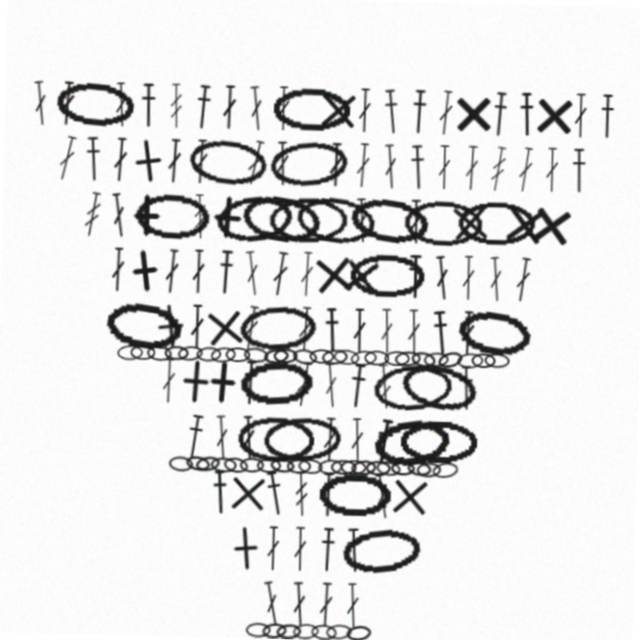chain: (399, 356, 483, 414), (373, 412, 455, 468), (237, 192, 320, 247), (345, 192, 428, 247), (345, 523, 428, 577), (103, 302, 184, 357), (455, 302, 535, 357), (264, 138, 347, 191), (211, 193, 292, 247), (292, 193, 374, 246), (183, 139, 266, 191), (373, 359, 455, 411), (238, 304, 319, 355), (265, 415, 346, 465), (49, 85, 130, 135), (240, 360, 317, 409), (266, 197, 345, 243), (401, 197, 480, 243), (132, 196, 209, 243), (267, 87, 345, 133), (455, 197, 534, 242), (240, 417, 317, 463), (402, 417, 480, 462), (348, 252, 425, 297), (322, 472, 397, 517), (437, 346, 465, 367), (188, 457, 215, 476), (198, 457, 225, 476), (435, 458, 463, 476), (226, 458, 253, 476), (351, 348, 378, 366), (411, 348, 438, 366), (379, 458, 405, 476), (211, 348, 237, 366), (264, 348, 290, 366), (293, 348, 319, 366), (300, 623, 327, 640), (333, 623, 360, 640), (322, 348, 349, 365), (334, 348, 361, 365), (395, 348, 422, 365), (269, 623, 295, 640), (353, 623, 379, 640), (273, 458, 299, 475), (301, 458, 327, 475), (321, 458, 347, 475), (354, 458, 380, 475), (410, 458, 436, 475), (178, 348, 204, 365), (244, 348, 270, 365), (318, 624, 345, 640), (283, 624, 309, 640), (214, 459, 240, 475), (118, 349, 144, 365), (147, 349, 173, 365), (424, 349, 450, 365), (458, 349, 484, 365), (172, 459, 197, 475), (420, 459, 445, 475), (197, 349, 222, 365), (334, 459, 360, 474), (344, 459, 370, 474), (385, 349, 411, 364), (485, 349, 511, 364), (253, 624, 278, 639), (243, 459, 268, 474), (260, 459, 285, 474), (290, 459, 315, 474), (369, 459, 394, 474), (394, 459, 419, 474), (131, 349, 156, 364), (165, 349, 190, 364), (226, 349, 251, 364), (274, 349, 299, 364), (310, 349, 335, 364), (365, 349, 390, 364), (472, 349, 497, 364)
double: (51, 141, 75, 188), (267, 581, 290, 628), (240, 141, 263, 188), (376, 472, 397, 518), (295, 362, 316, 408), (241, 307, 262, 353), (241, 252, 262, 298), (106, 197, 127, 243), (269, 252, 289, 298), (431, 252, 451, 298), (512, 252, 532, 298), (512, 142, 532, 188), (323, 362, 342, 408), (26, 87, 45, 133), (242, 87, 261, 133), (216, 417, 234, 463), (162, 252, 180, 298), (486, 252, 504, 298), (378, 142, 396, 188), (432, 87, 450, 133), (297, 582, 315, 627), (351, 582, 368, 627), (243, 417, 260, 462), (297, 307, 314, 352), (351, 197, 368, 242), (108, 142, 125, 187), (162, 142, 179, 187), (189, 142, 206, 187), (351, 142, 368, 187), (54, 87, 71, 132), (108, 87, 125, 132), (325, 582, 341, 627), (325, 417, 341, 462), (352, 417, 368, 462), (379, 307, 395, 352), (406, 307, 422, 352), (460, 307, 476, 352), (109, 252, 125, 297), (298, 252, 314, 297), (271, 142, 287, 187), (460, 142, 476, 187), (271, 527, 286, 572), (298, 527, 313, 572), (163, 362, 178, 407), (190, 307, 205, 352), (352, 307, 367, 352), (190, 252, 205, 297), (460, 252, 475, 297), (406, 197, 421, 242), (325, 142, 340, 187), (433, 142, 448, 187), (541, 142, 556, 187), (217, 87, 232, 132), (271, 87, 286, 132), (352, 87, 367, 132), (568, 87, 583, 132)
half_double: (267, 471, 291, 518), (375, 416, 399, 463), (186, 417, 209, 463), (430, 307, 452, 353), (349, 362, 370, 408), (376, 87, 397, 133), (404, 142, 424, 188), (188, 87, 208, 133), (485, 87, 505, 133), (350, 527, 369, 572), (215, 472, 234, 517), (323, 307, 342, 352), (215, 252, 234, 297), (80, 142, 99, 187), (324, 527, 342, 572), (243, 362, 261, 407), (459, 362, 477, 407), (405, 252, 423, 297), (405, 87, 423, 132), (513, 87, 531, 132), (324, 472, 341, 517), (567, 142, 584, 187), (135, 87, 152, 132), (594, 87, 611, 132)
single: (200, 305, 250, 355), (119, 250, 169, 300), (335, 250, 385, 300), (497, 195, 547, 245), (524, 195, 574, 245), (119, 140, 169, 190), (146, 305, 195, 354), (308, 250, 357, 299), (443, 195, 492, 244), (228, 526, 275, 574), (174, 361, 221, 408), (201, 361, 248, 408), (201, 196, 248, 243), (391, 471, 437, 518), (229, 472, 275, 518), (310, 87, 356, 133), (445, 87, 491, 133), (526, 87, 572, 133), (121, 197, 166, 242)
treble: (79, 197, 101, 243), (484, 142, 505, 188), (377, 362, 396, 408), (297, 472, 314, 517), (189, 197, 206, 242), (163, 87, 179, 132)
